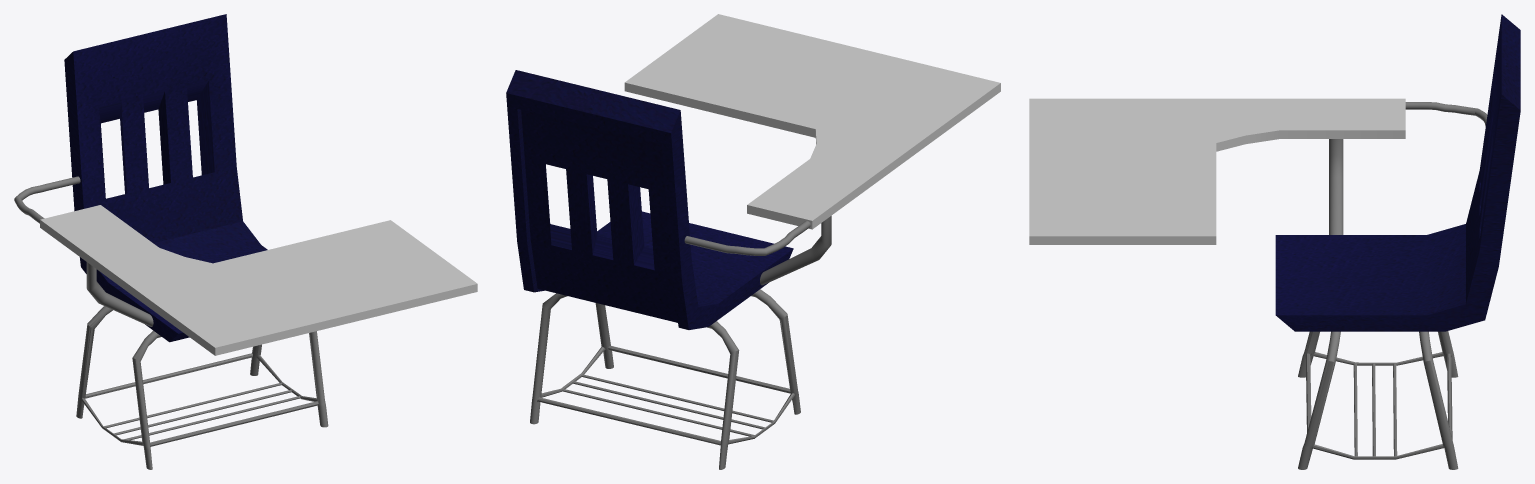
Rendered from kid desk.fbx.
The picture shows the model from 3 angles, left to right: view 1: azimuth 30°, elevation 25°; view 2: azimuth 150°, elevation 25°; view 3: azimuth 270°, elevation 25°; orthographic projection. The views are drawn at different scales.
Parts seen in each view (by area): view 1: Mesh; view 2: Mesh; view 3: Mesh.
Part boxes in pixels (x1,y1,x2,y2): Mesh: (14,14,477,469); Mesh: (506,14,1000,469); Mesh: (1029,14,1520,469).
Bounding box in the file's own units: 3.02 × 3.8 × 4.56.
